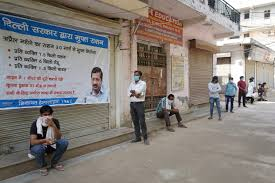mask: (39, 103, 53, 124), (133, 70, 141, 83), (166, 92, 174, 102), (210, 74, 218, 83), (239, 74, 244, 83), (227, 75, 233, 82)
